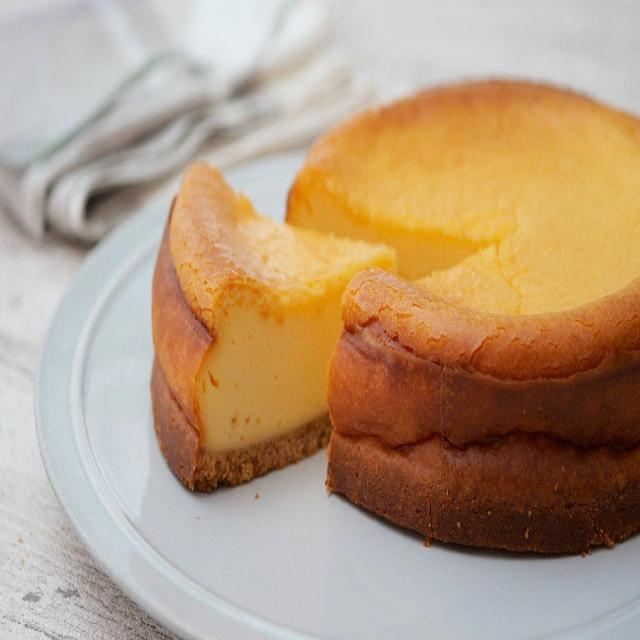cheesecake: (146, 68, 640, 599)
